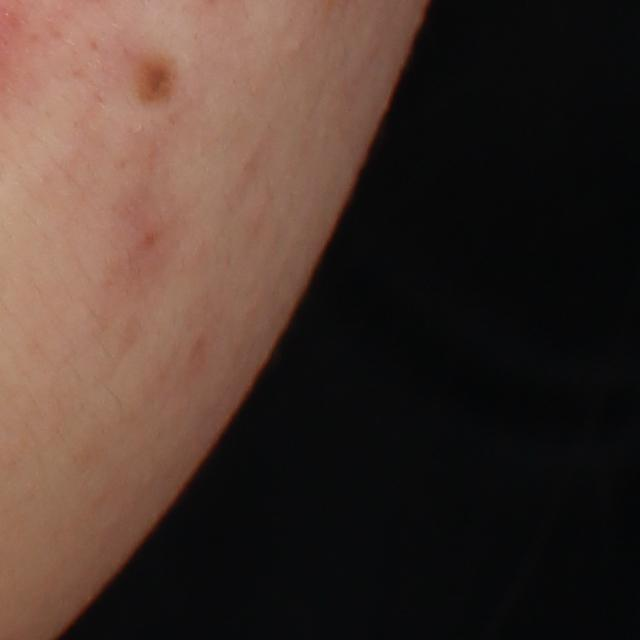nevus: (131, 57, 178, 108)
